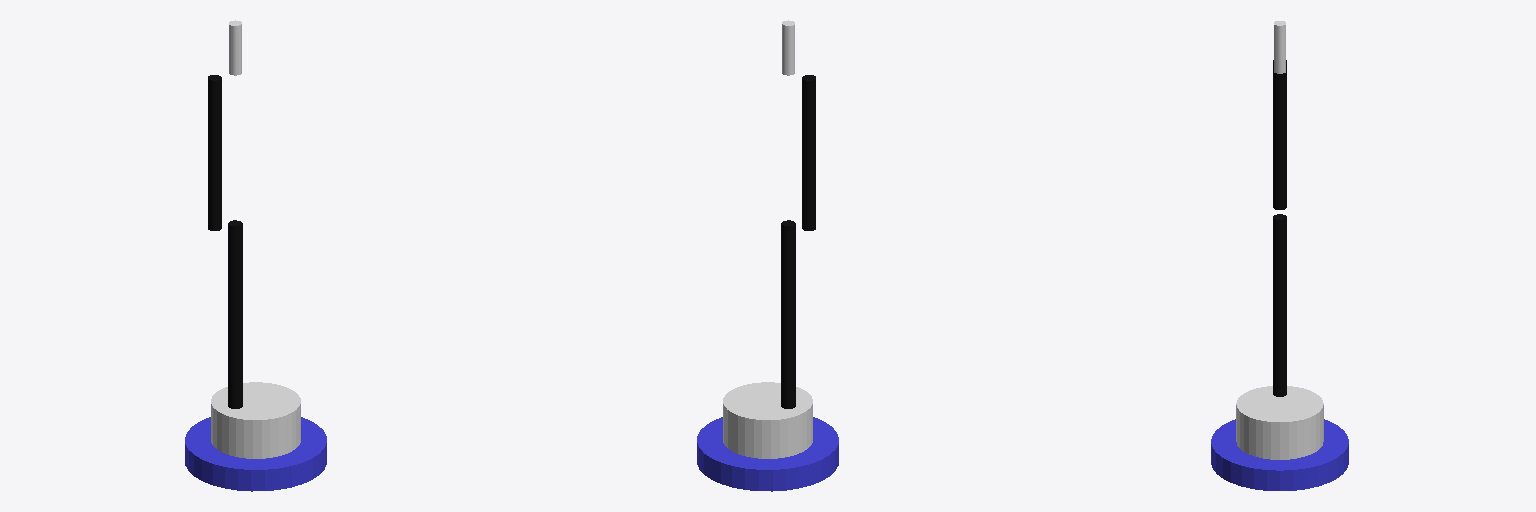
URDF robot description (test_setup1):
<?xml version="1.0" ?>
<!-- =================================================================================== -->
<!-- |    This document was autogenerated by xacro from test_setup1.urdf.xacro         | -->
<!-- |    EDITING THIS FILE BY HAND IS NOT RECOMMENDED                                 | -->
<!-- =================================================================================== -->
<robot name="test_setup1" xmlns:xacro="http://www.ros.org/wiki/xacro">
  <link name="base_link"/>
  <link name="frame">
    <visual>
      <geometry>
        <cylinder length="0.050" radius="0.150"/>
      </geometry>
      <origin rpy="0 0 0" xyz="0 0 0.025"/>
      <material name="steel">
        <color rgba="0.3 0.3 0.9 1"/>
      </material>
    </visual>
    <collision>
      <geometry>
        <cylinder length="0.050" radius="0.155"/>
      </geometry>
      <origin rpy="0 0 0" xyz="0 0 0.025"/>
    </collision>
  </link>
  <link name="dummy"/>
  <joint name="base_link_joint" type="fixed">
    <parent link="base_link"/>
    <child link="frame"/>
  </joint>
  <joint name="base_joint" type="revolute">
    <parent link="frame"/>
    <child link="dummy"/>
    <origin rpy="0 -1.57079632679 0" xyz="0 0 0.025"/>
    <axis xyz="1 0 0"/>
    <limit effort="1000.0" lower="-1.57079632679" upper="1.57079632679" velocity="0.5"/>
  </joint>
  <create/>
  <link name="base">
    <visual>
      <geometry>
        <cylinder length="0.115" radius="0.095"/>
      </geometry>
      <origin rpy="0 1.57079632679 0" xyz="0.0575 0 0"/>
      <material name="aluminium">
        <color rgba="0.9 0.9 0.9 1"/>
      </material>
    </visual>
    <collision>
      <geometry>
        <cylinder length="0.0575" radius="0.1"/>
      </geometry>
      <origin rpy="0 1.57079632679 0" xyz="0.115 0 0"/>
    </collision>
  </link>
  <link name="arm">
    <visual>
      <geometry>
        <cylinder length="0.425" radius="0.015"/>
      </geometry>
      <origin rpy="0 1.57079632679 0" xyz="0.2125 0 0"/>
      <material name="carbon">
        <color rgba="0.1 0.1 0.1 1"/>
      </material>
    </visual>
    <collision>
      <geometry>
        <cylinder length="0.425" radius="0.02"/>
      </geometry>
      <origin rpy="0 1.57079632679 0" xyz="0.2125 0 0"/>
    </collision>
  </link>
  <link name="fore_arm">
    <visual>
      <geometry>
        <cylinder length="0.35" radius="0.015"/>
      </geometry>
      <origin rpy="0 1.57079632679 0" xyz="0.175 0 0"/>
      <material name="carbon"/>
    </visual>
    <collision>
      <geometry>
        <cylinder length="0.35" radius="0.02"/>
      </geometry>
      <origin rpy="0 1.57079632679 0" xyz="0.175 0 0"/>
    </collision>
  </link>
  <link name="effector">
    <visual>
      <geometry>
        <cylinder length="0.115" radius="0.014"/>
      </geometry>
      <origin rpy="0 1.57079632679 0" xyz="0.0575 0 0"/>
      <material name="aluminium"/>
    </visual>
    <collision>
      <geometry>
        <cylinder length="0.115" radius="0.019"/>
      </geometry>
      <origin rpy="0 1.57079632679 0" xyz="0.0575 0 0"/>
    </collision>
  </link>
  <link name="tool0"/>
  <joint name="mounting" type="fixed">
    <parent link="dummy"/>
    <child link="base"/>
  </joint>
  <joint name="shoulder" type="revolute">
    <parent link="base"/>
    <child link="arm"/>
    <origin rpy="0 0 0" xyz="0.115 0 0.05"/>
    <axis xyz="0 0 1"/>
    <limit effort="1000.0" lower="-2.35619449019" upper="2.35619449019" velocity="0.5"/>
  </joint>
  <joint name="elbow" type="revolute">
    <parent link="arm"/>
    <child link="fore_arm"/>
    <origin rpy="0 0 0" xyz="0.425 0 0.05"/>
    <axis xyz="0 0 1"/>
    <limit effort="1000.0" lower="-2.98" upper="2.98" velocity="0.5"/>
  </joint>
  <joint name="wrist" type="revolute">
    <parent link="fore_arm"/>
    <child link="effector"/>
    <origin rpy="0 0 0" xyz="0.35 0 -0.05"/>
    <axis xyz="0 0 1"/>
    <limit effort="1000.0" lower="-2.98" upper="2.98" velocity="0.5"/>
  </joint>
  <joint name="joint_tool" type="fixed">
    <parent link="effector"/>
    <child link="tool0"/>
    <origin rpy="0 0 0" xyz="0 0 0"/>
  </joint>
</robot>

--- Render facts (derived) ---
3 views of the same robot in one strip: view 1: azimuth 30°, elevation 25°; view 2: azimuth 150°, elevation 25°; view 3: azimuth 270°, elevation 25° (orthographic).
Model test_setup1 with 8 links and 7 joints (4 revolute, 3 fixed), rooted at base_link, posed all joints at 0.
Links seen in each view (by area): view 1: frame, base, arm, fore_arm, effector; view 2: frame, base, arm, fore_arm, effector; view 3: base, frame, arm, fore_arm, effector.
Link boxes in pixels (<box>): frame: <box>185,417,326,491</box>; base: <box>211,382,300,458</box>; arm: <box>228,220,242,408</box>; fore_arm: <box>208,75,221,230</box>; effector: <box>229,20,241,75</box>; frame: <box>697,417,838,491</box>; base: <box>723,382,812,458</box>; arm: <box>781,220,795,408</box>; fore_arm: <box>802,75,815,230</box>; effector: <box>782,20,794,75</box>; base: <box>1236,386,1323,459</box>; frame: <box>1211,419,1348,490</box>; arm: <box>1273,214,1286,396</box>; fore_arm: <box>1273,60,1286,209</box>; effector: <box>1274,21,1285,73</box>.
Size in the robot's own frame: 0.3 by 0.3 by 1.03 metres.
Geometry: primitives only (box / cylinder / sphere), no mesh files.